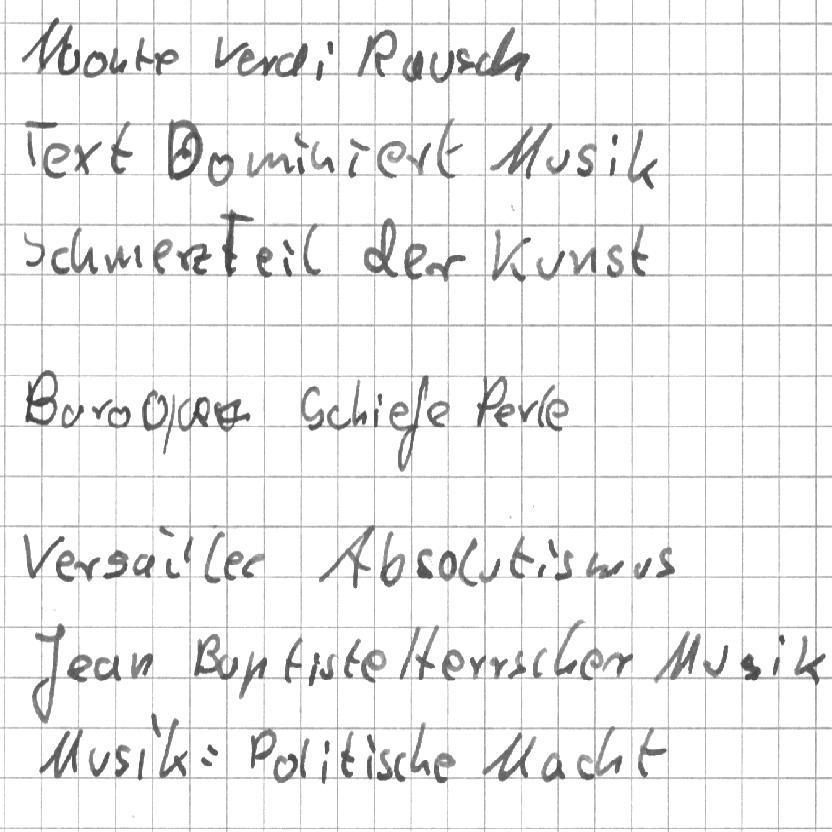Char: (318, 523, 376, 591), (29, 623, 67, 726), (392, 382, 431, 473), (478, 730, 535, 785), (489, 126, 544, 176), (19, 18, 66, 74), (486, 231, 533, 283), (35, 727, 80, 780), (164, 117, 199, 184), (653, 631, 697, 684), (362, 214, 397, 280), (490, 27, 530, 80), (157, 714, 188, 782), (354, 30, 397, 78), (23, 368, 57, 428), (219, 209, 249, 276), (21, 532, 62, 580), (23, 115, 60, 168), (552, 616, 584, 677), (626, 129, 660, 186), (134, 711, 162, 780), (791, 634, 828, 686), (474, 373, 508, 429), (634, 726, 667, 782), (434, 120, 467, 175), (377, 528, 406, 590), (596, 721, 626, 780), (246, 148, 295, 180), (414, 623, 440, 683), (108, 117, 133, 176), (238, 650, 266, 702), (191, 632, 222, 678), (399, 624, 423, 681), (177, 239, 213, 276), (210, 396, 246, 432), (629, 223, 653, 276), (300, 222, 323, 277), (584, 550, 626, 580), (71, 137, 103, 176), (70, 226, 96, 274), (409, 722, 431, 778), (274, 42, 309, 77), (246, 727, 275, 769), (211, 34, 242, 72), (42, 141, 72, 180), (159, 524, 181, 577), (458, 535, 480, 587), (140, 388, 167, 430), (429, 251, 468, 280), (345, 134, 370, 179), (376, 139, 403, 180), (300, 385, 324, 431), (202, 531, 223, 583), (508, 534, 531, 579), (206, 150, 233, 188), (701, 642, 728, 680), (308, 137, 335, 175), (182, 393, 210, 429), (283, 634, 303, 683), (577, 646, 605, 681), (21, 231, 45, 271), (339, 727, 357, 780), (566, 246, 596, 277), (271, 752, 300, 784), (538, 749, 566, 782), (315, 36, 335, 82), (361, 648, 388, 682), (350, 377, 368, 428), (536, 537, 558, 578), (602, 648, 631, 679), (93, 651, 122, 682), (150, 235, 173, 274), (65, 651, 92, 684), (409, 138, 433, 175), (55, 39, 78, 77), (402, 241, 424, 280), (430, 46, 452, 85), (545, 397, 569, 432), (103, 549, 129, 581), (399, 48, 422, 84), (770, 631, 788, 676), (603, 241, 624, 279), (439, 647, 463, 680), (343, 636, 361, 680), (534, 251, 563, 278), (575, 142, 596, 179), (280, 236, 298, 278), (152, 46, 178, 75), (424, 399, 450, 428), (102, 244, 127, 274), (433, 749, 455, 783), (387, 401, 410, 433), (87, 745, 109, 778), (544, 147, 569, 176), (738, 651, 762, 681), (536, 382, 552, 427), (55, 548, 75, 584), (656, 544, 676, 579), (131, 552, 156, 580), (61, 399, 85, 428), (291, 133, 308, 173), (76, 554, 101, 581), (553, 548, 574, 580), (129, 649, 152, 678), (606, 132, 621, 176), (491, 402, 515, 429), (255, 245, 275, 277), (83, 48, 105, 77), (575, 751, 596, 781), (530, 647, 550, 678), (454, 45, 474, 76), (113, 742, 130, 778), (134, 36, 150, 74), (241, 552, 263, 579), (480, 556, 502, 583), (415, 547, 434, 578), (306, 649, 321, 688), (50, 246, 70, 275), (91, 396, 111, 425), (223, 550, 241, 582), (325, 405, 348, 430), (236, 47, 255, 77), (199, 741, 220, 768), (364, 733, 376, 780), (108, 47, 128, 75), (508, 648, 526, 679), (320, 651, 337, 683), (437, 548, 454, 580), (320, 738, 332, 783), (217, 652, 237, 679), (298, 738, 311, 779), (517, 398, 539, 422), (109, 403, 130, 428), (378, 747, 393, 781), (632, 555, 653, 579), (182, 537, 196, 573), (474, 49, 492, 76), (393, 751, 409, 781), (488, 655, 508, 679), (257, 53, 277, 77), (466, 653, 485, 678), (374, 389, 385, 427), (130, 244, 146, 270)
